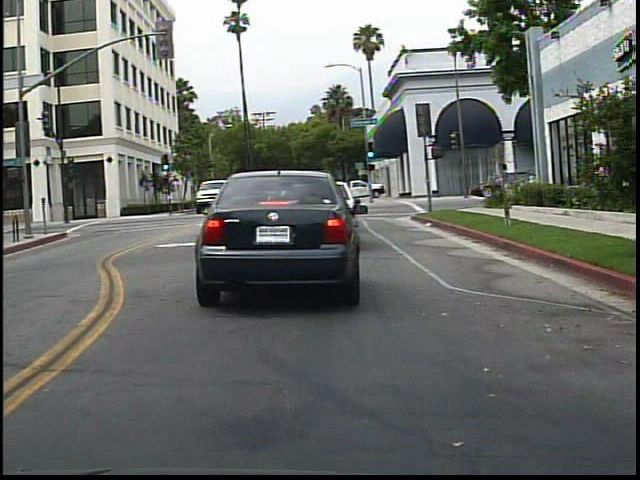person: (486, 159, 516, 208)
